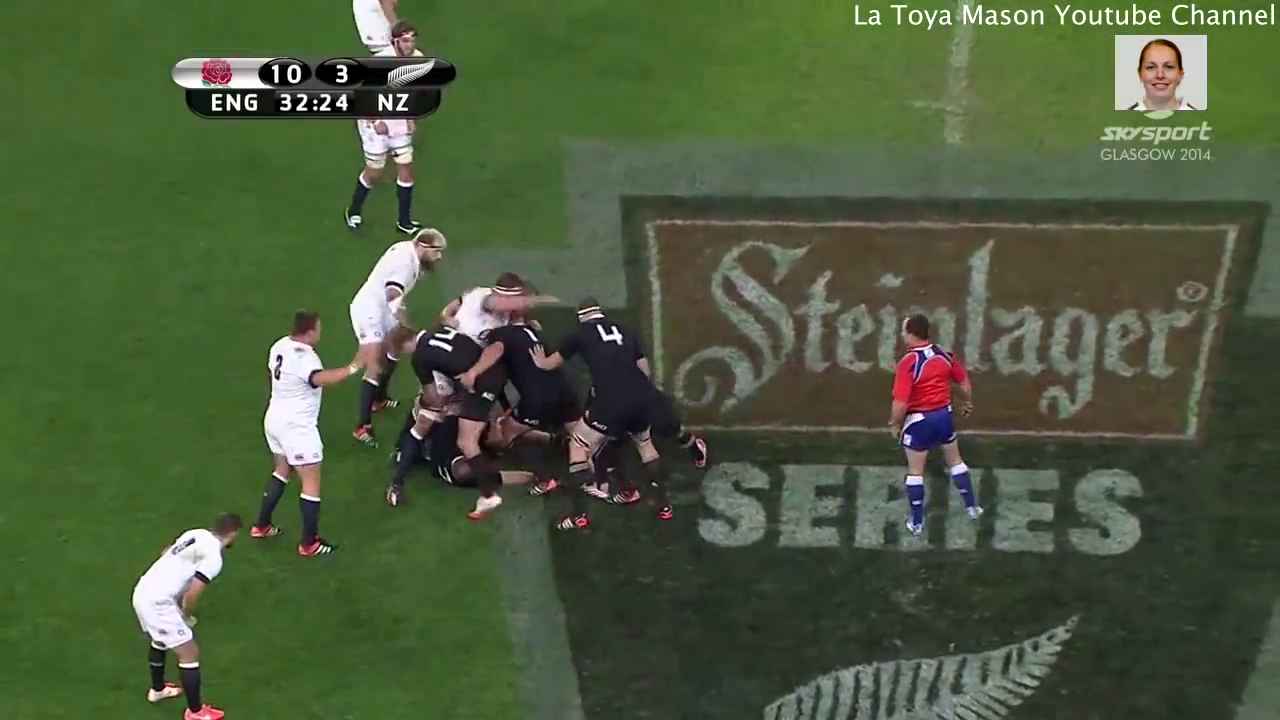player: (535, 297, 674, 537), (246, 311, 353, 560), (121, 508, 246, 720), (877, 315, 987, 539), (386, 324, 509, 520), (346, 224, 448, 448), (341, 120, 429, 235)
